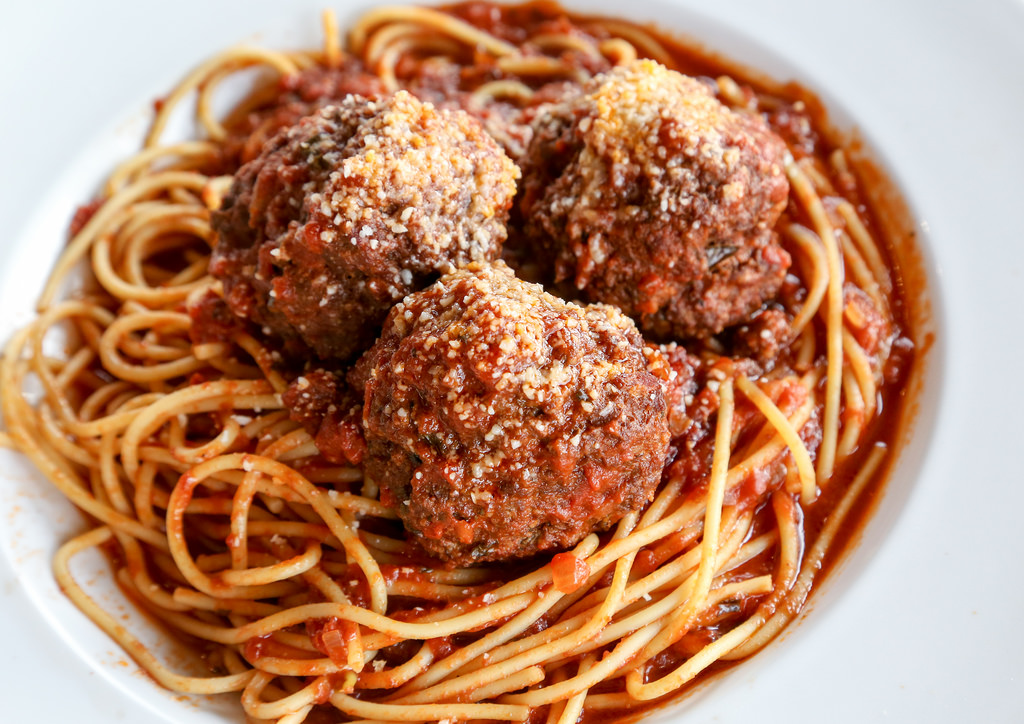meatballs: (527, 90, 796, 331), (381, 287, 645, 531), (245, 110, 488, 323)
plain spaghetti: (237, 539, 706, 685)
